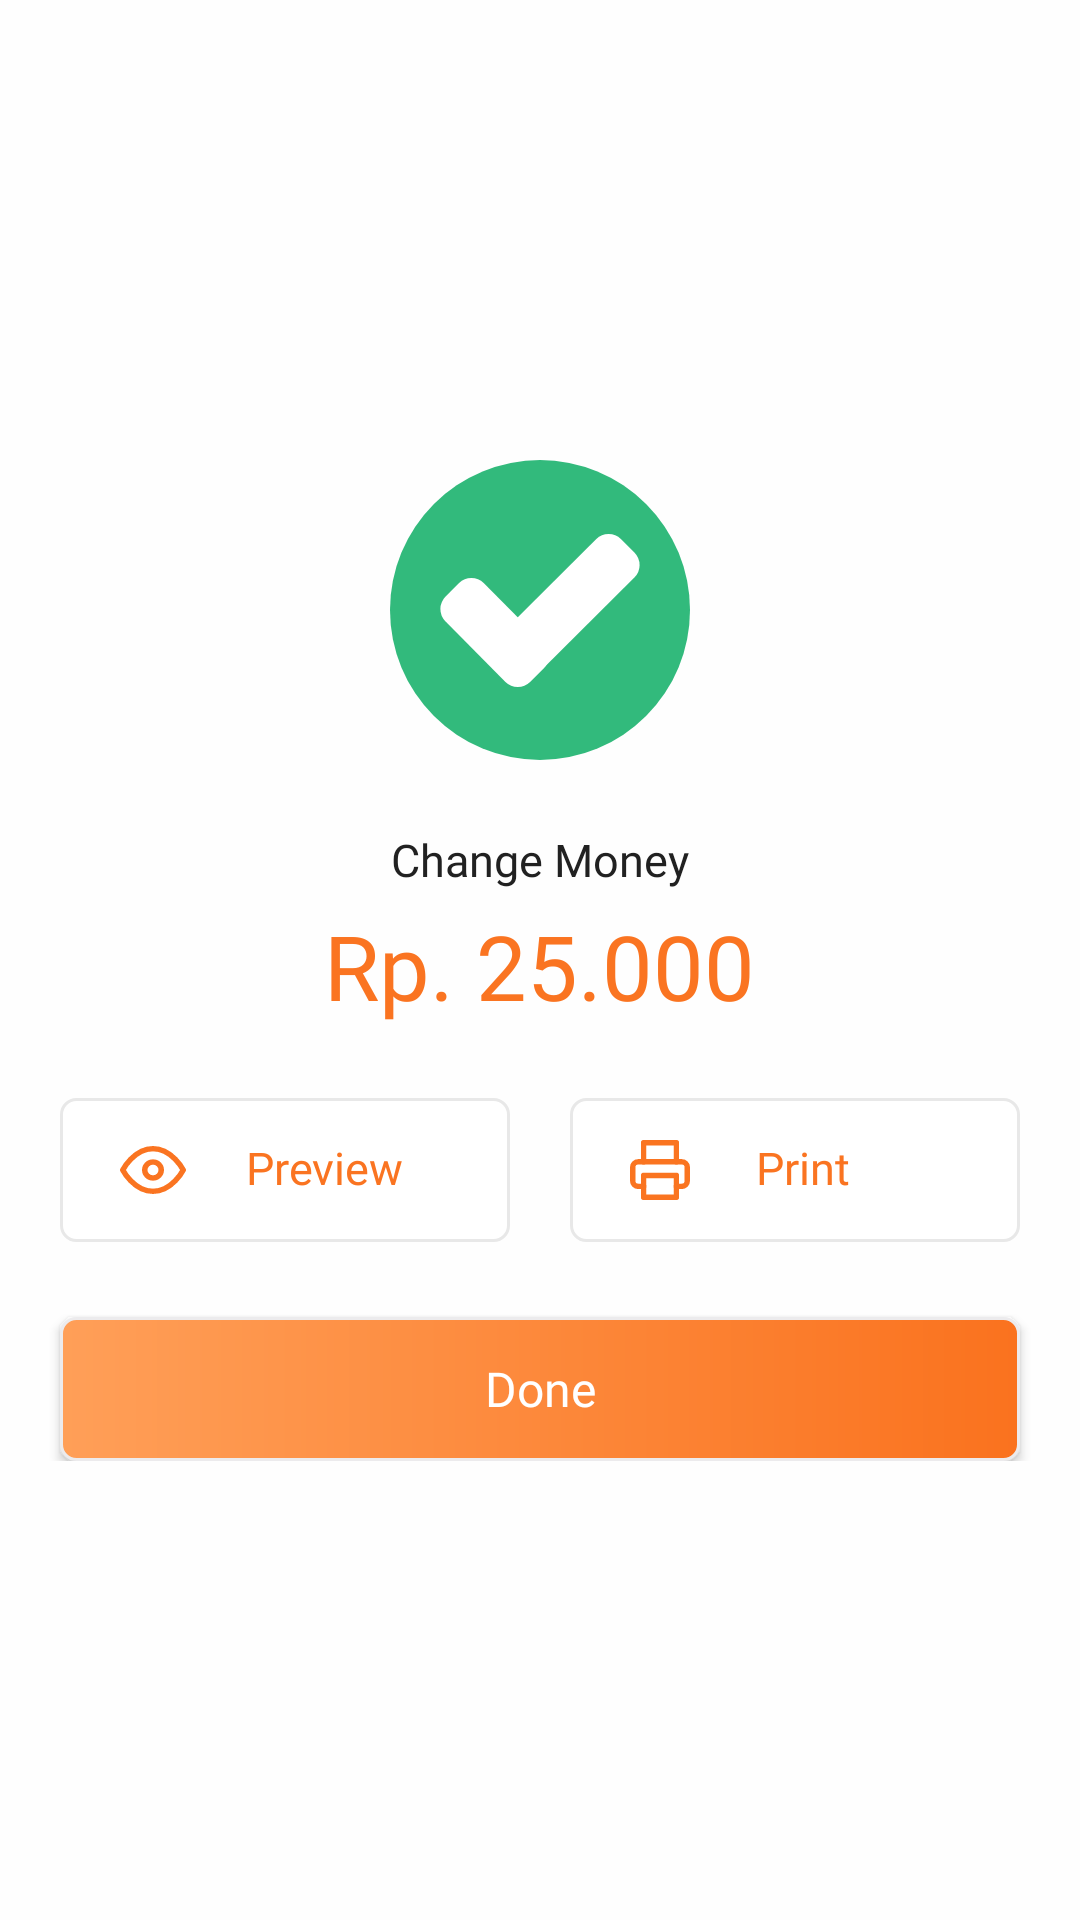

Locate icon controls on the screen. Image size 1080*1920, boxes as [x1,y1,x2,y2].
done checked: [390,460,690,760]
eye: [120,1146,186,1194]
